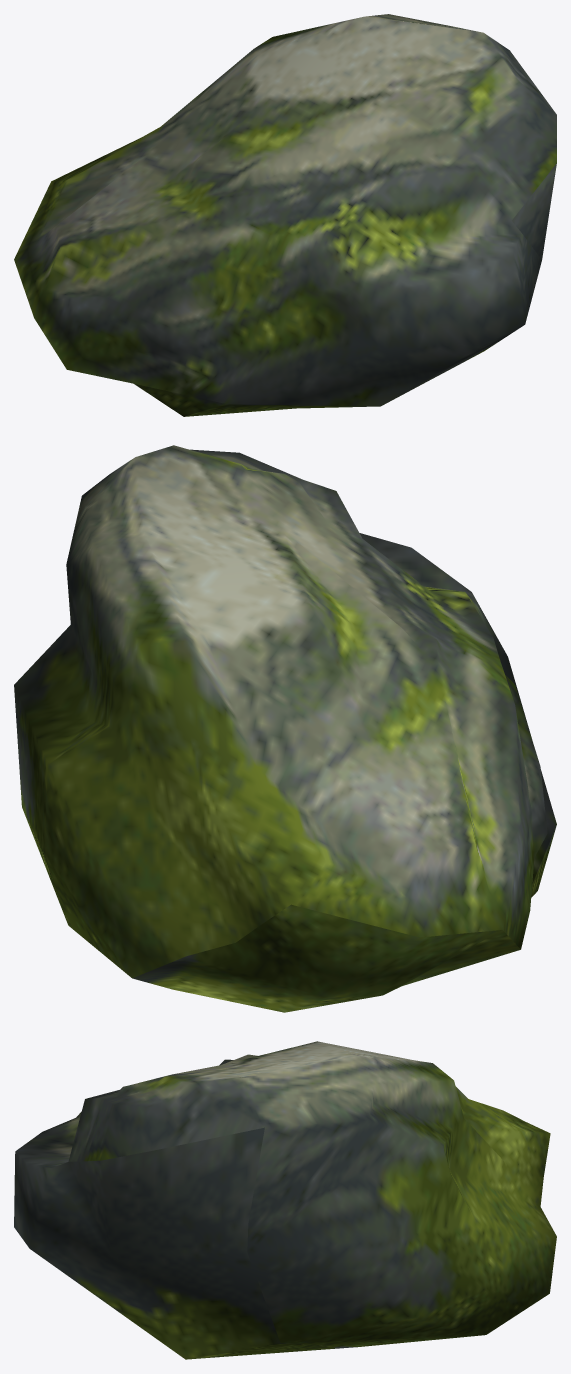
File: 4002_Item_shitou_5.FBX
The picture shows the model from 3 angles, top to bottom: view 1: azimuth 30°, elevation 25°; view 2: azimuth 150°, elevation 25°; view 3: azimuth 270°, elevation 25°; orthographic projection. The views are drawn at different scales.
Visible parts, largest first — view 1: 4002_Item_shitou_5; view 2: 4002_Item_shitou_5; view 3: 4002_Item_shitou_5.
Boxes of the visible parts, left/top/right/bottom form: 4002_Item_shitou_5: left=14, top=14, right=556, bottom=416; 4002_Item_shitou_5: left=14, top=445, right=556, bottom=1012; 4002_Item_shitou_5: left=14, top=1041, right=556, bottom=1359.
Bounding box in the file's own units: 119 × 92.37 × 134.
